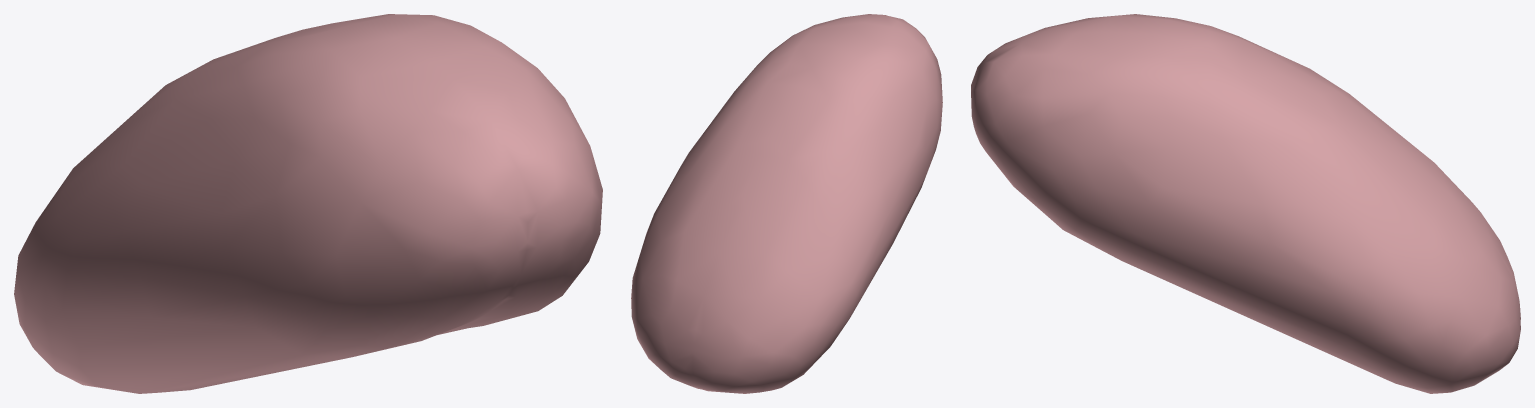
3 views of the same model, side by side, from view 1: azimuth 30°, elevation 25°; view 2: azimuth 150°, elevation 25°; view 3: azimuth 270°, elevation 25° (orthographic). The views are drawn at different scales.
Visible parts, largest first — view 1: ZA_3522fc42050da2f3; view 2: ZA_3522fc42050da2f3; view 3: ZA_3522fc42050da2f3.
Boxes of the visible parts, x1,y1,x2,y2 form: ZA_3522fc42050da2f3: (14, 14, 602, 393); ZA_3522fc42050da2f3: (631, 14, 942, 393); ZA_3522fc42050da2f3: (971, 14, 1520, 393).
Bounding box in the file's own units: 0.00636 × 0.00743 × 0.0111.
